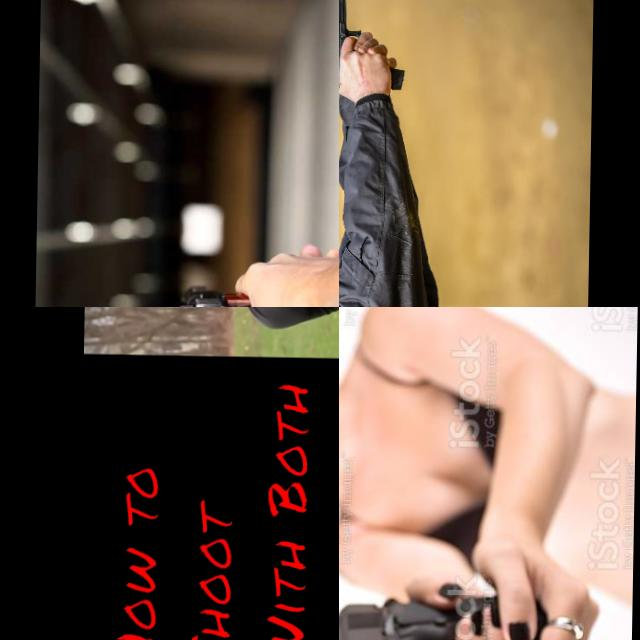handgun: (339, 590, 464, 640), (170, 275, 259, 307), (339, 0, 361, 89), (169, 307, 226, 339)
